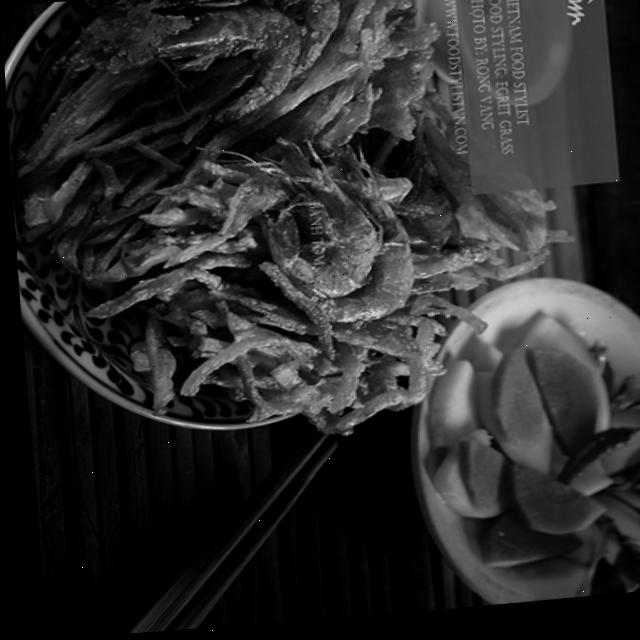炸货点心: (0, 0, 622, 610)
熟制海鲜: (0, 0, 622, 610)
